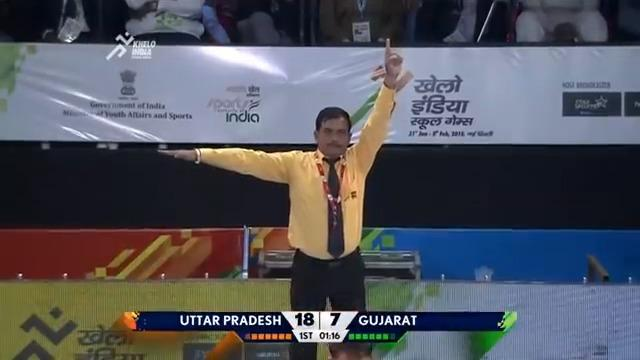referee: (156, 37, 413, 358)
